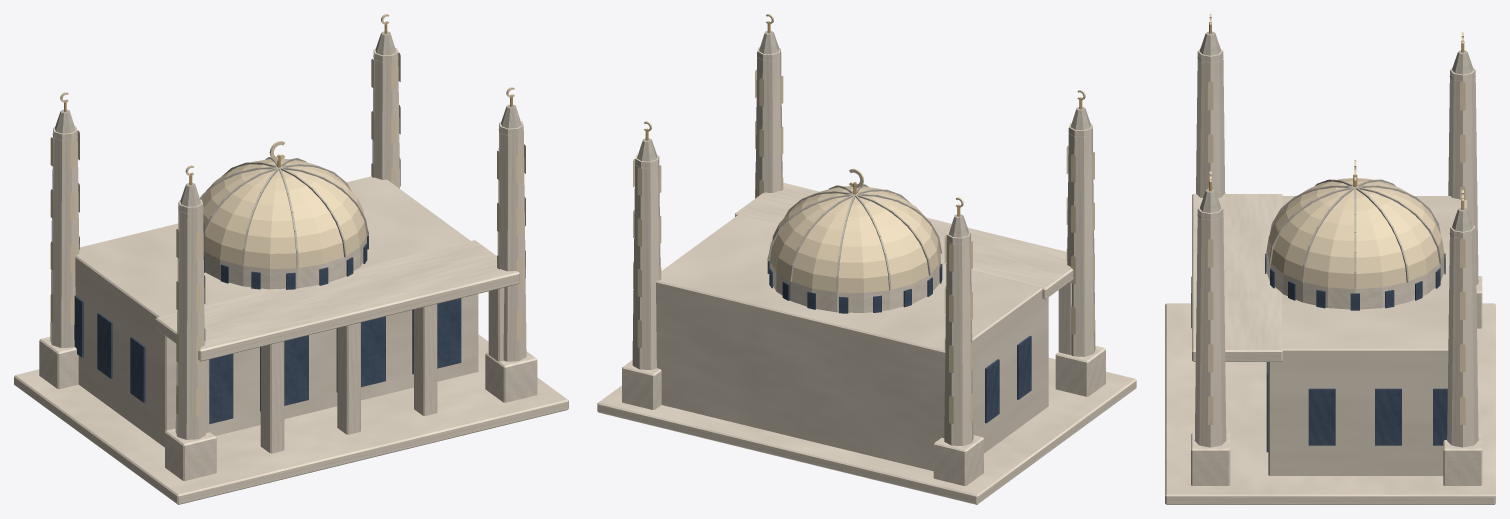
The model's file is hassan-sharbatly-mosque.glb.
3 renders of one model, left to right at view 1: azimuth 30°, elevation 25°; view 2: azimuth 150°, elevation 25°; view 3: azimuth 270°, elevation 25°, orthographic. The views are drawn at different scales.
Parts seen in each view (by area): view 1: hassan-sharbatly-mosque; view 2: hassan-sharbatly-mosque; view 3: hassan-sharbatly-mosque.
Boxes of the visible parts, bbox=[...] form: hassan-sharbatly-mosque: bbox=[14, 14, 568, 504]; hassan-sharbatly-mosque: bbox=[597, 14, 1136, 504]; hassan-sharbatly-mosque: bbox=[1165, 14, 1495, 504].
Size of the model in its own units: 11 by 8.48 by 8.
1 material, 1 textured.
